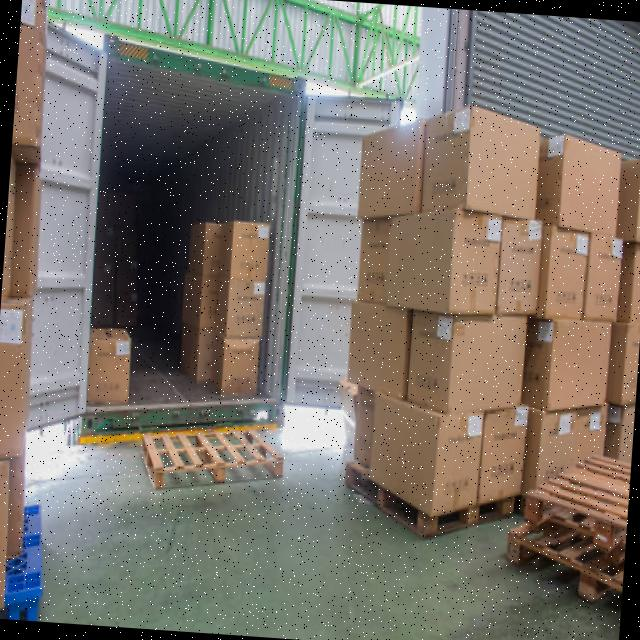Wooden-Pallets: (334, 453, 517, 544), (137, 418, 291, 494), (517, 490, 627, 564)
